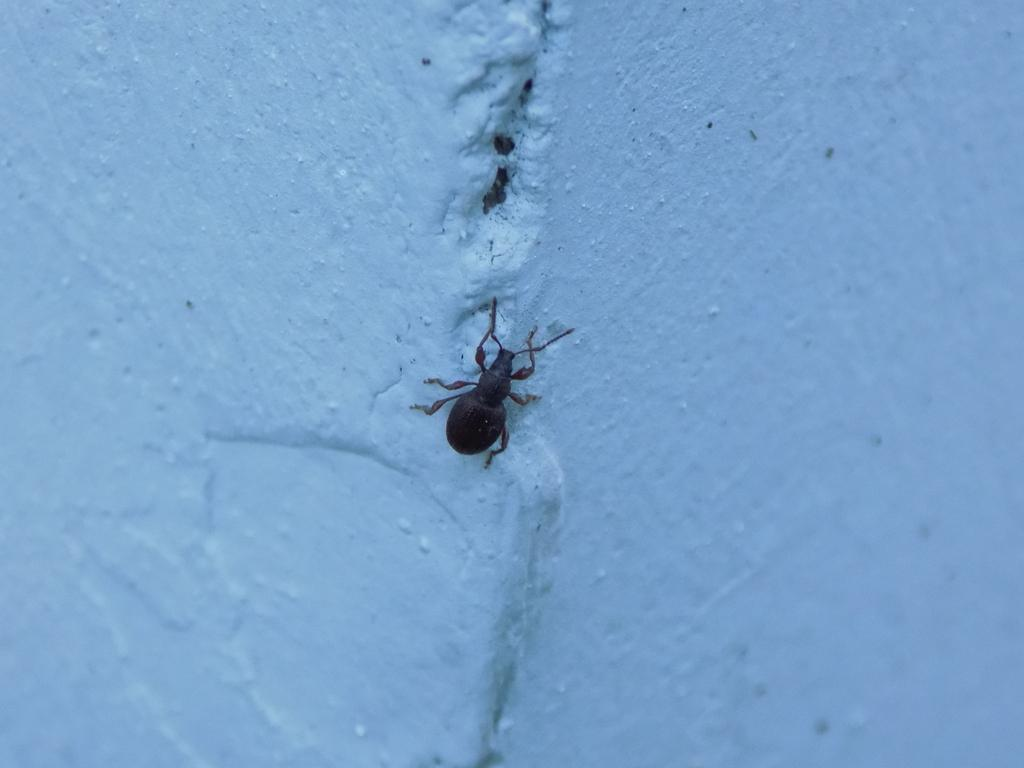weevils: (377, 269, 597, 500)
